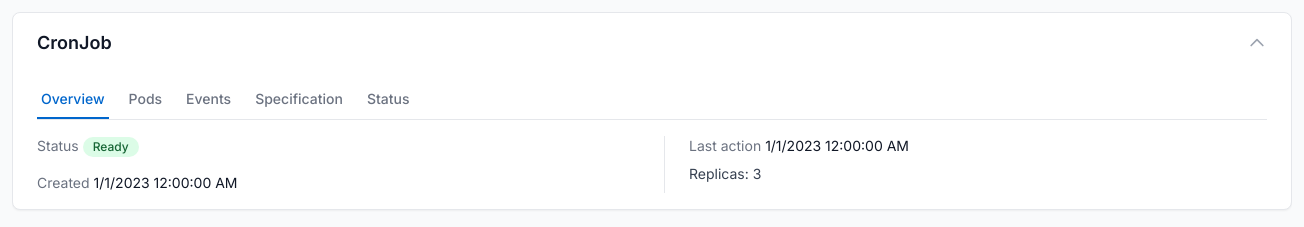
it: WorkloadDetailPanel component › Pods tab › should show "No recent jobs" for CronJob with no pods
Click the button "Pods" at (145, 100), box [124,81,166,119]
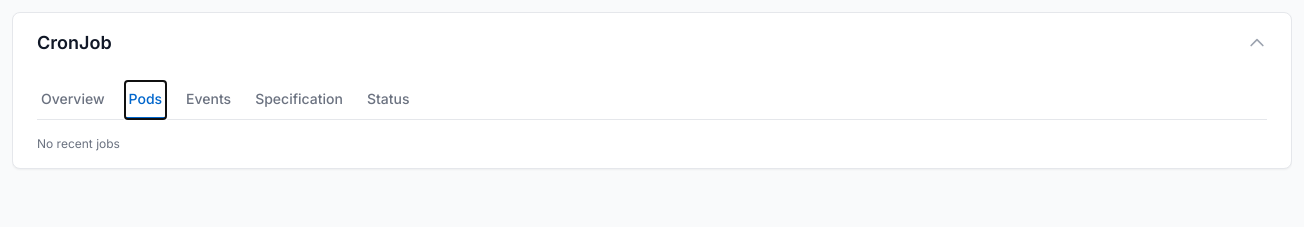
Now the text "No recent jobs" is shown, box [37,136,120,151]
